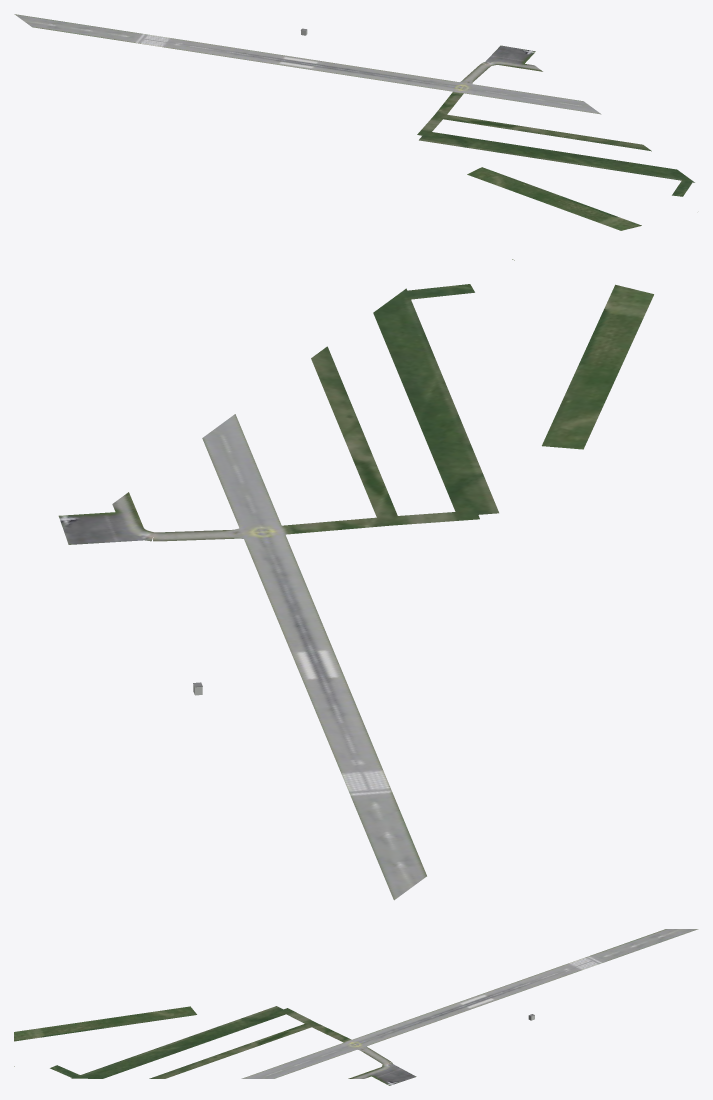
Rendered from LSZB_-1_0.glb.
3 views of the same model, one above another, from view 1: azimuth 30°, elevation 25°; view 2: azimuth 150°, elevation 25°; view 3: azimuth 270°, elevation 25° (orthographic). The views are drawn at different scales.
Visible parts, largest first — view 1: pavement_LSZB_pavement_5208_2391, pavement_LSZB_pavement_5208_2392; view 2: pavement_LSZB_pavement_5208_2391, pavement_LSZB_pavement_5208_2392; view 3: pavement_LSZB_pavement_5208_2391, pavement_LSZB_pavement_5208_2392.
Part boxes in pixels (box(x1,y1,x2,y2)): pavement_LSZB_pavement_5208_2391: box(417, 64, 694, 230); pavement_LSZB_pavement_5208_2392: box(14, 14, 527, 87); pavement_LSZB_pavement_5208_2391: box(112, 259, 653, 553); pavement_LSZB_pavement_5208_2392: box(66, 510, 426, 900); pavement_LSZB_pavement_5208_2391: box(14, 1006, 369, 1078); pavement_LSZB_pavement_5208_2392: box(370, 929, 698, 1078).
Bounding box in the file's own units: 523 × 6.58 × 962.
3 materials, 2 textured.
